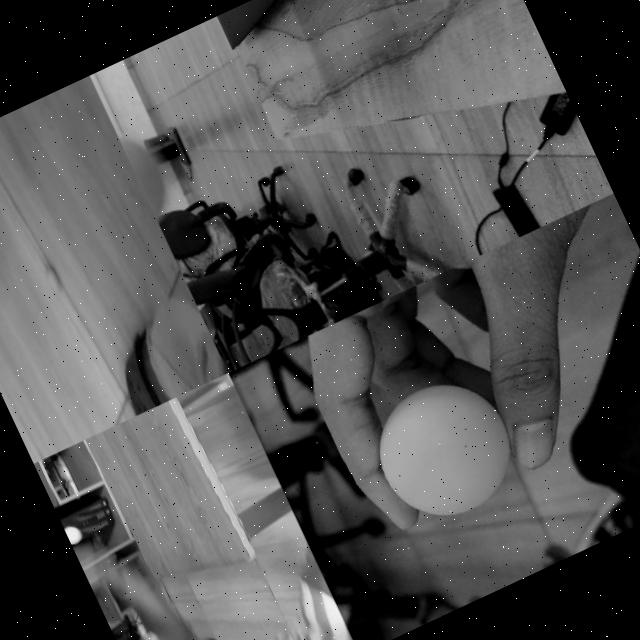ping-pong-ball: (356, 358, 530, 534), (42, 264, 64, 294), (62, 518, 83, 542)
